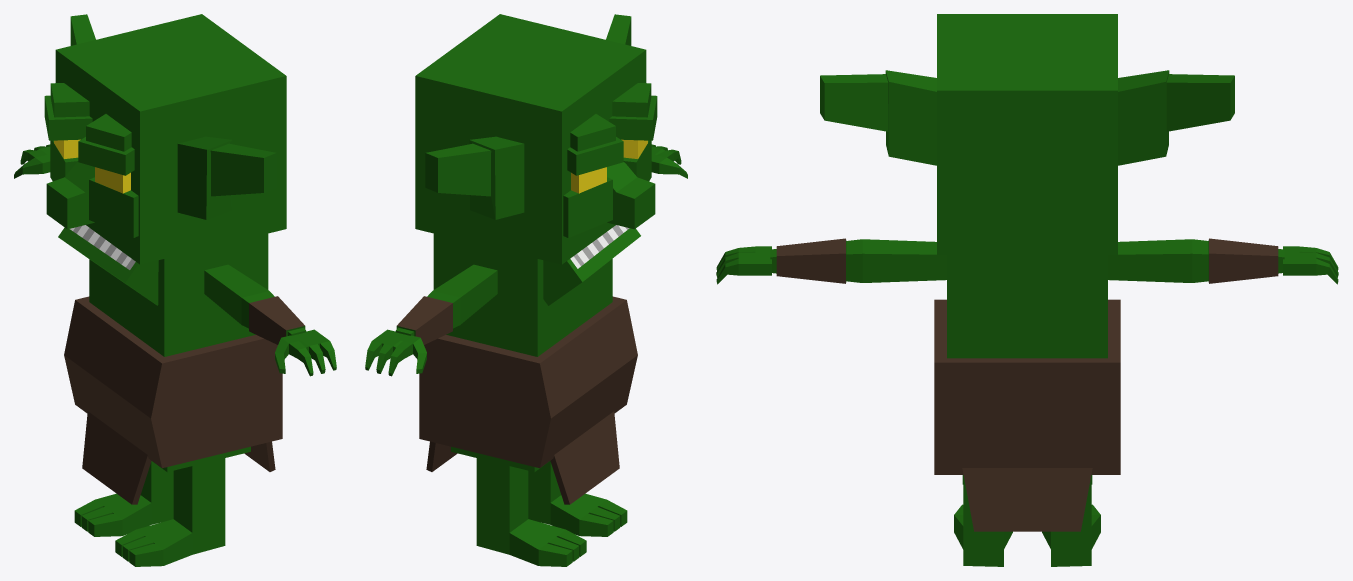
The model's file is Goblin.fbx.
3 renders of one model, left to right at view 1: azimuth 30°, elevation 25°; view 2: azimuth 150°, elevation 25°; view 3: azimuth 270°, elevation 25°, orthographic. The views are drawn at different scales.
Visible parts, largest first — view 1: Cube.163; view 2: Cube.163; view 3: Cube.163.
Part boxes in pixels (x1,y1,x2,y2): Cube.163: (14, 14, 336, 566); Cube.163: (365, 14, 687, 566); Cube.163: (716, 14, 1338, 566).
Bounding box in the file's own units: 156 × 361 × 406.
